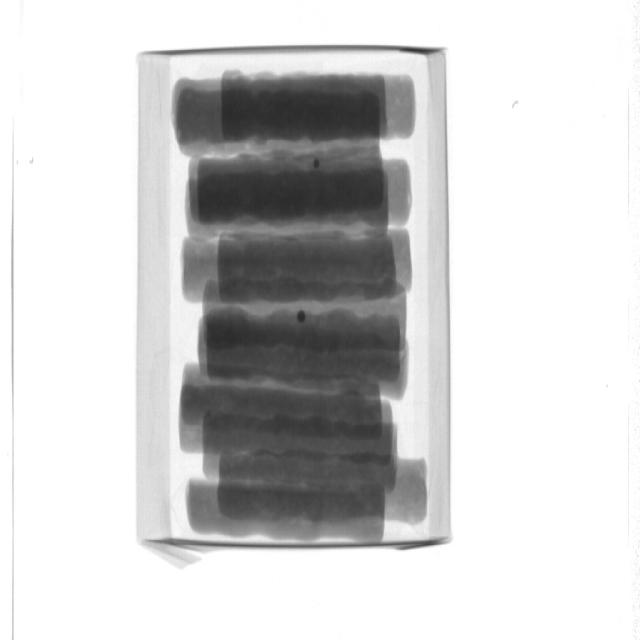ym: (297, 312, 306, 323), (314, 161, 322, 170)
